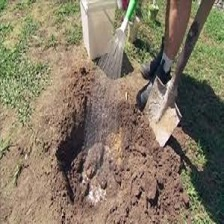clay_soil: (11, 67, 184, 217)
